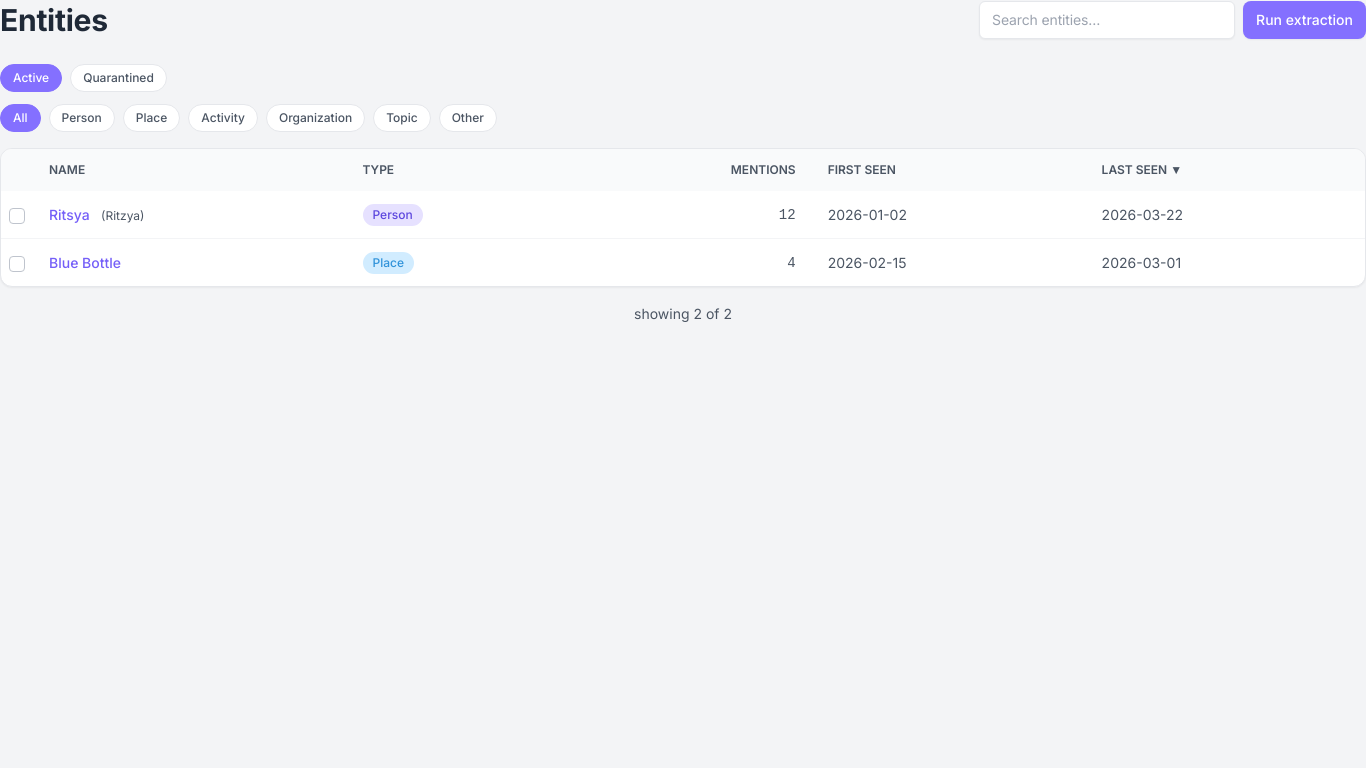
Test: EntityListView › merge modal flow › opens merge modal with survivor options when 2 entities selected
Note: Select both entities
Click the checkbox with test id "entity-checkbox" next to "Ritsya": (17, 216) top-left (9, 208), bottom-right (25, 224)
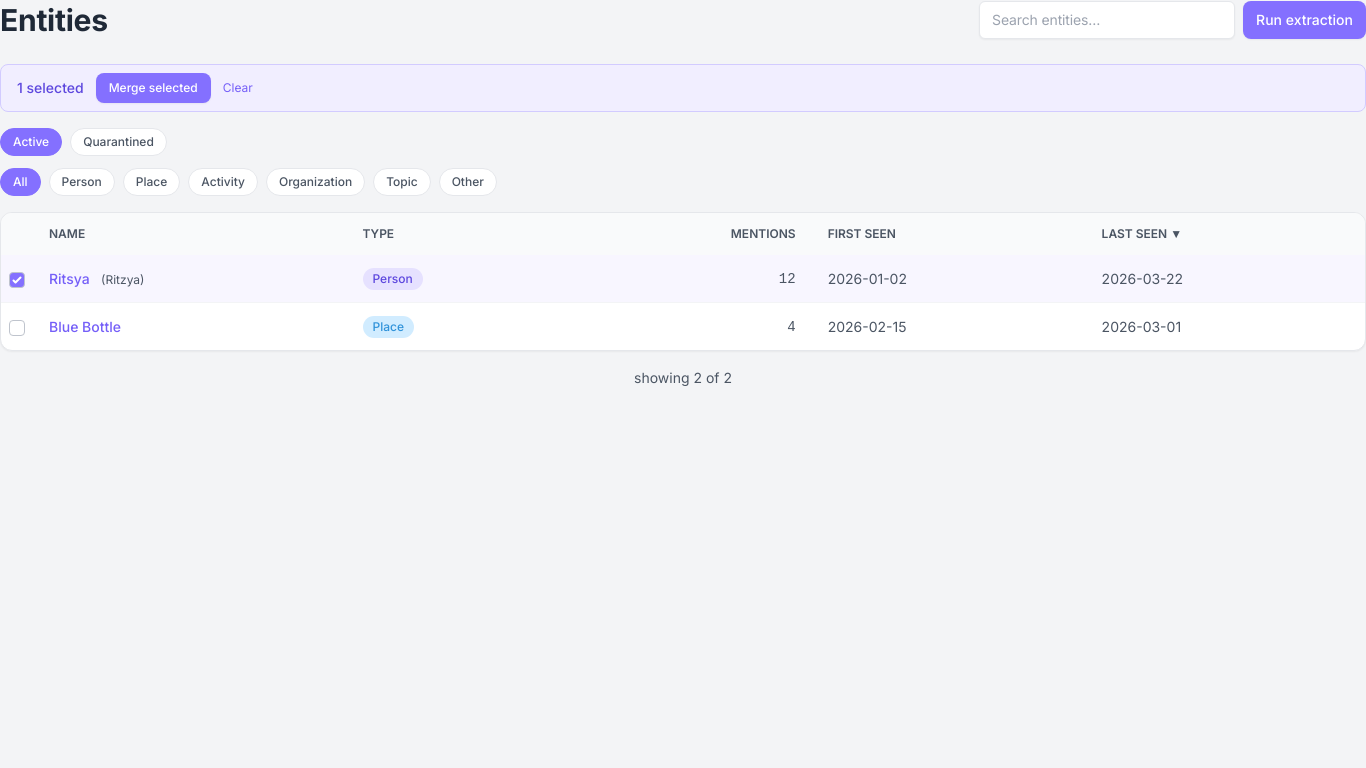
Click the checkbox with test id "entity-checkbox" next to "Blue Bottle": (17, 328) top-left (9, 320), bottom-right (25, 336)
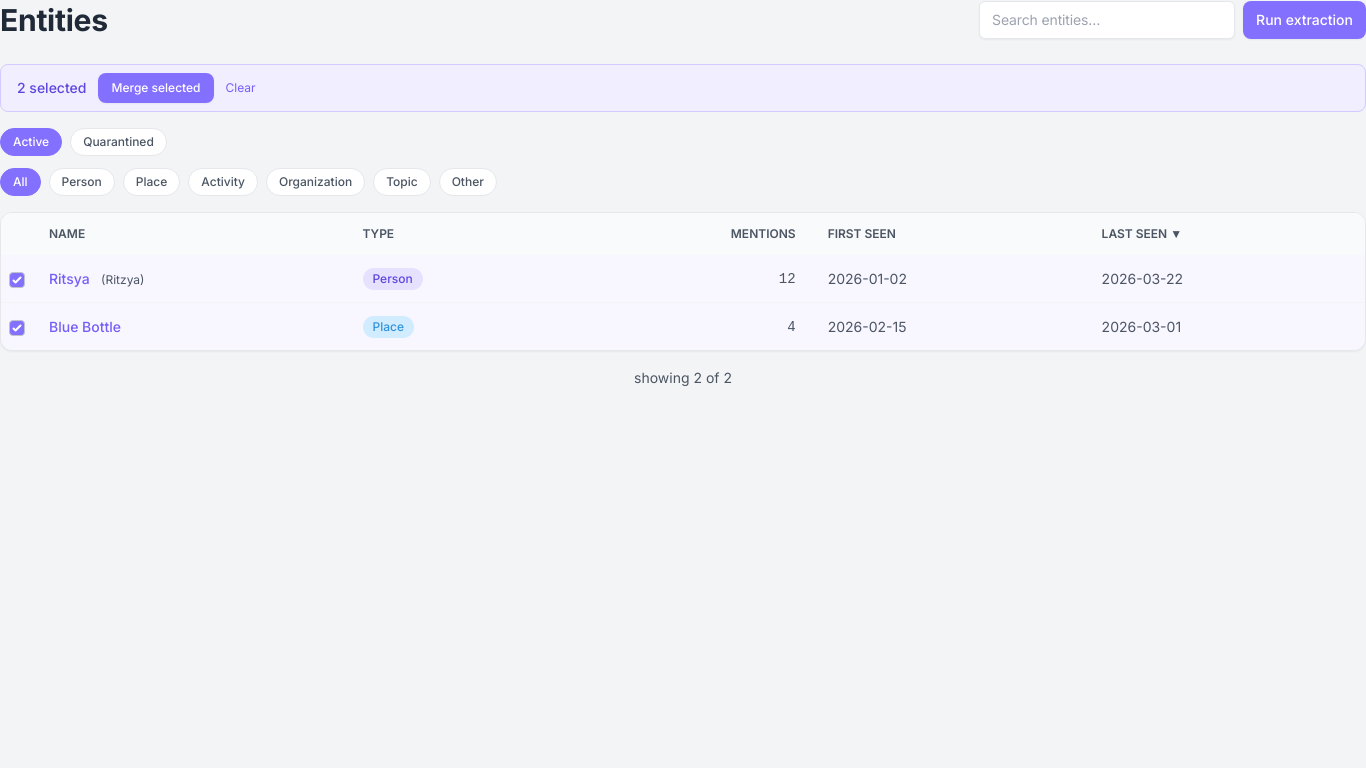
Note: Click merge button
Click the button with test id "merge-button": (156, 88) top-left (98, 73), bottom-right (214, 103)
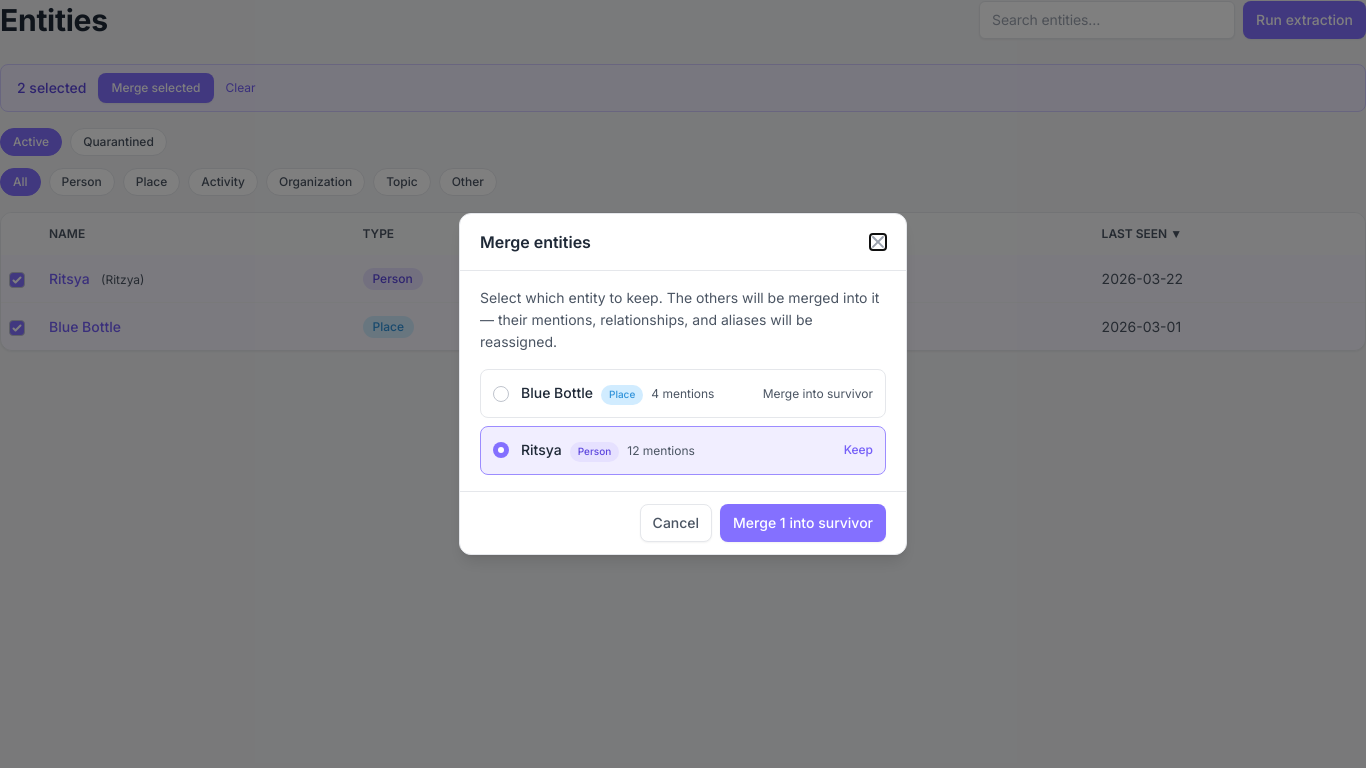
Expected: the dialog with test id "modal-panel" is shown, top-left (459, 213), bottom-right (907, 555)
Expected: the dialog with test id "modal-panel" shows "Merge entities", top-left (480, 232), bottom-right (591, 252)
Expected: the text "Ritsya person 12 mentions Keep" is shown, top-left (480, 426), bottom-right (886, 475)
